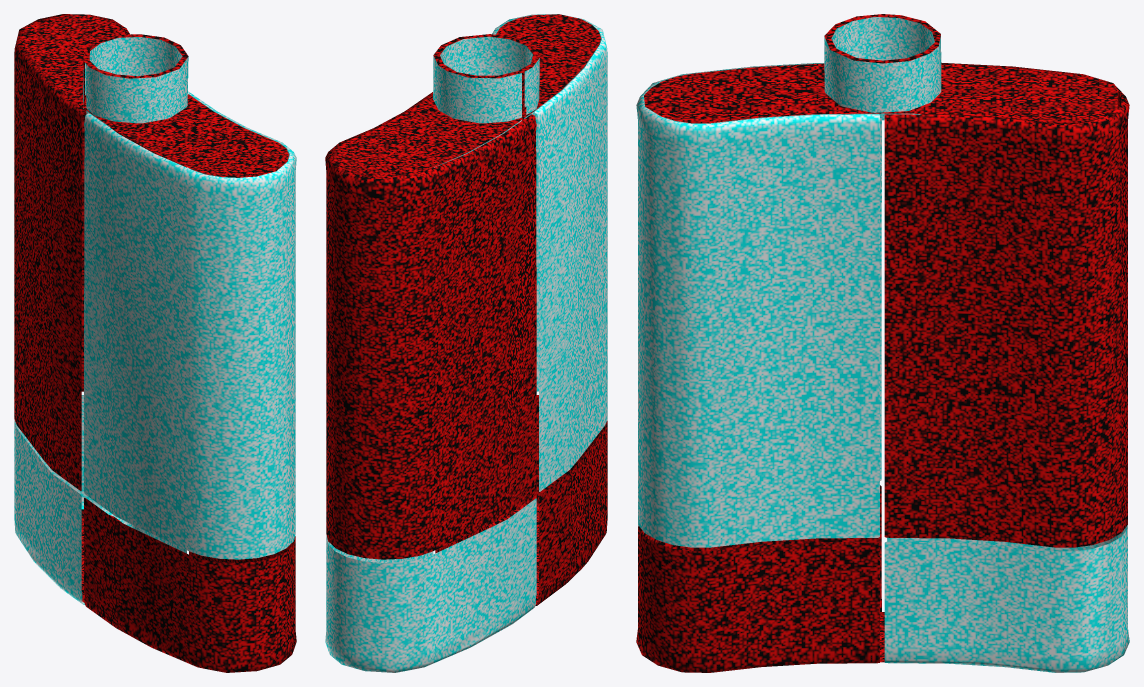
File: SM_Potion_01_GDH.fbx
3 views of the same model, side by side, from view 1: azimuth 30°, elevation 25°; view 2: azimuth 150°, elevation 25°; view 3: azimuth 270°, elevation 25° (orthographic). The views are drawn at different scales.
Visible parts, largest first — view 1: SM_Potion_01_GDH; view 2: SM_Potion_01_GDH; view 3: SM_Potion_01_GDH.
Part boxes in pixels (x1,y1,x2,y2): SM_Potion_01_GDH: (14,14,296,672); SM_Potion_01_GDH: (325,14,607,672); SM_Potion_01_GDH: (636,14,1129,672).
Bounding box in the file's own units: 3.15 × 13.18 × 9.86.
